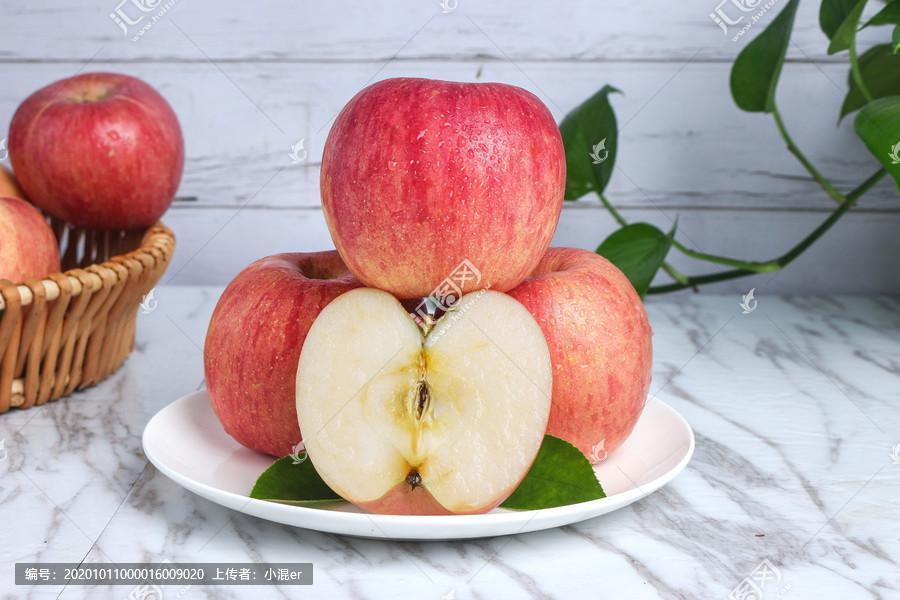apple: (319, 77, 563, 288), (203, 248, 372, 456), (7, 66, 184, 245), (509, 245, 652, 466)
